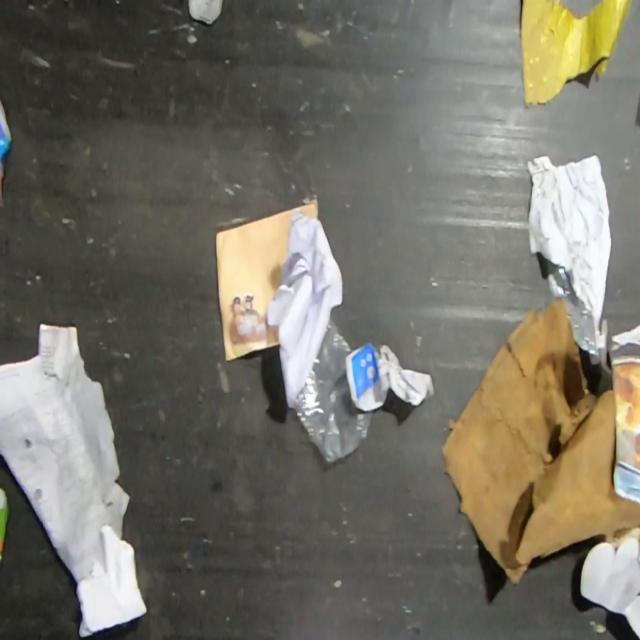cardboard: (578, 535, 640, 640), (186, 0, 224, 26), (0, 94, 14, 164), (0, 484, 12, 560)
soft_plastic: (293, 315, 375, 463), (546, 259, 600, 357)
